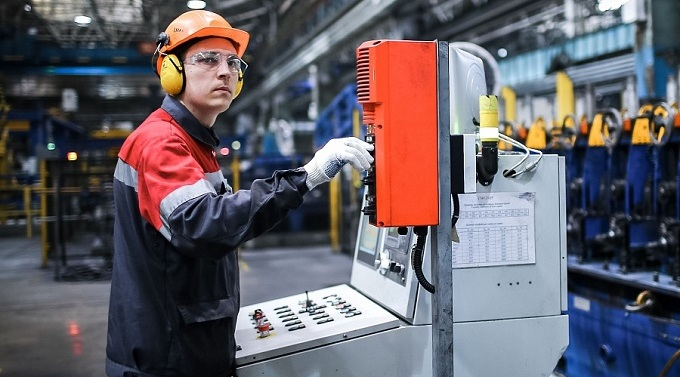person: (106, 9, 374, 377)
